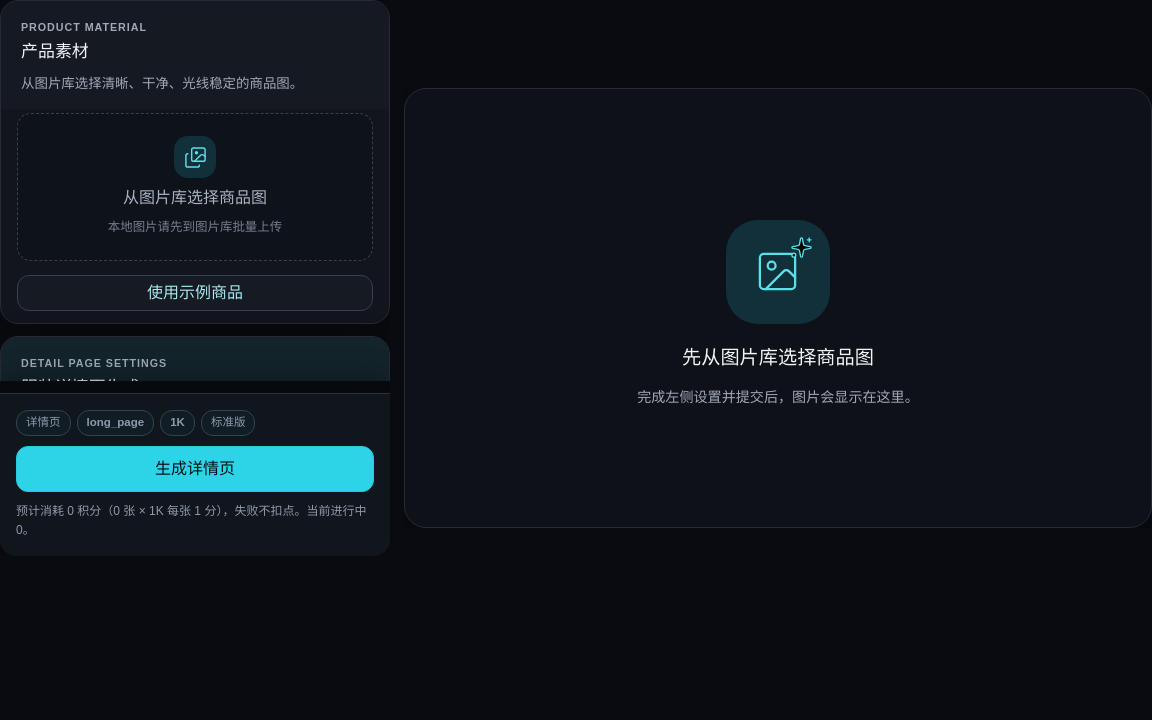
it: Workspace › lets detail modules stack multiple images and updates the estimate
Click the button "使用示例商品" at point(195, 293), box [17,275,373,311]
(page scrolled)
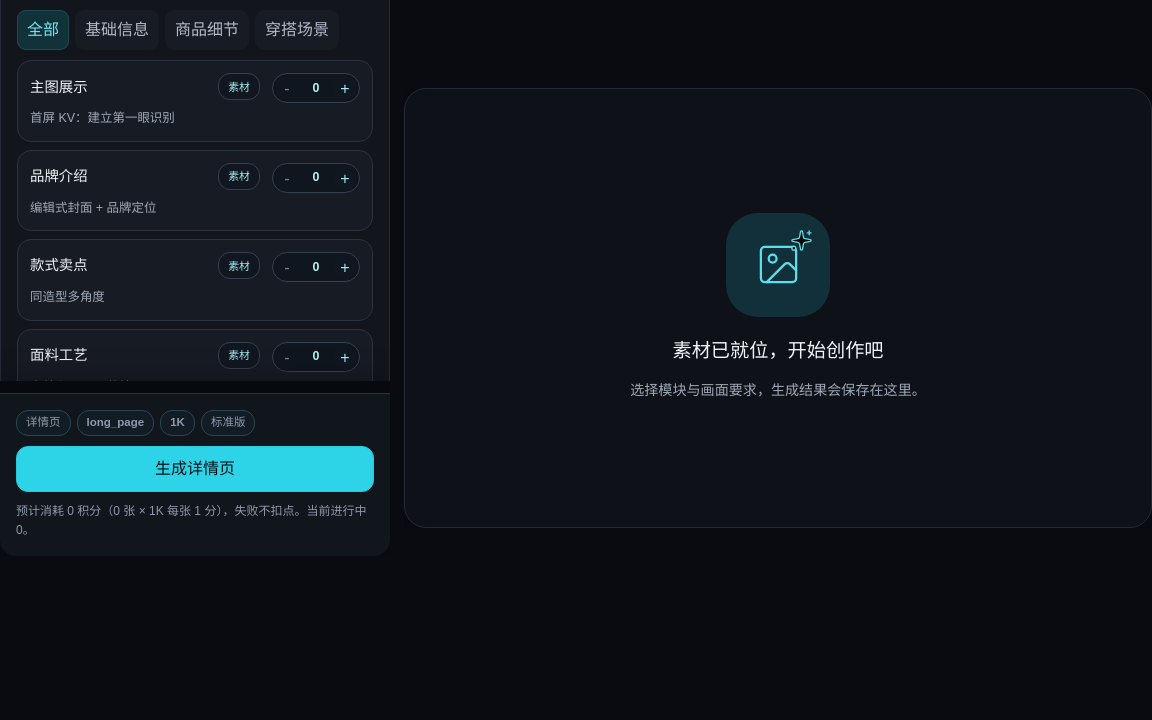
Click the button with aria-label "品牌介绍 编辑式封面 + 品牌定位" at point(59, 176), box [17,150,373,231]
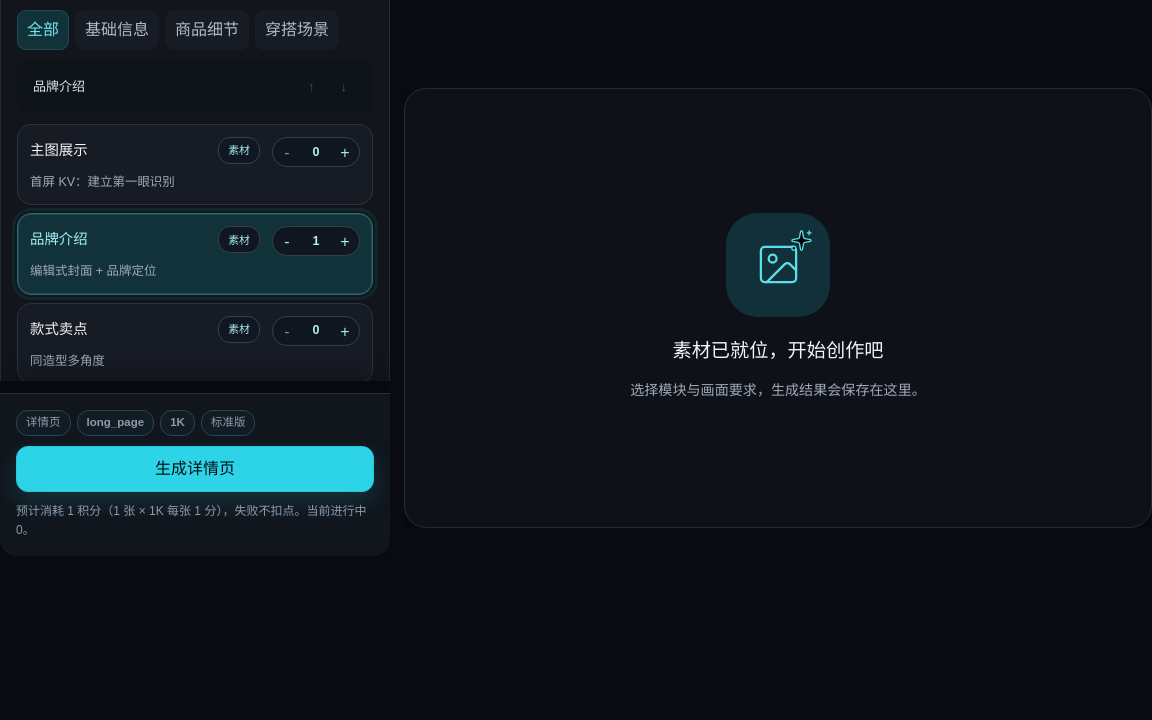
Click the button named "品牌介绍 增加 1 张" at point(345, 241), box [333,229,357,253]
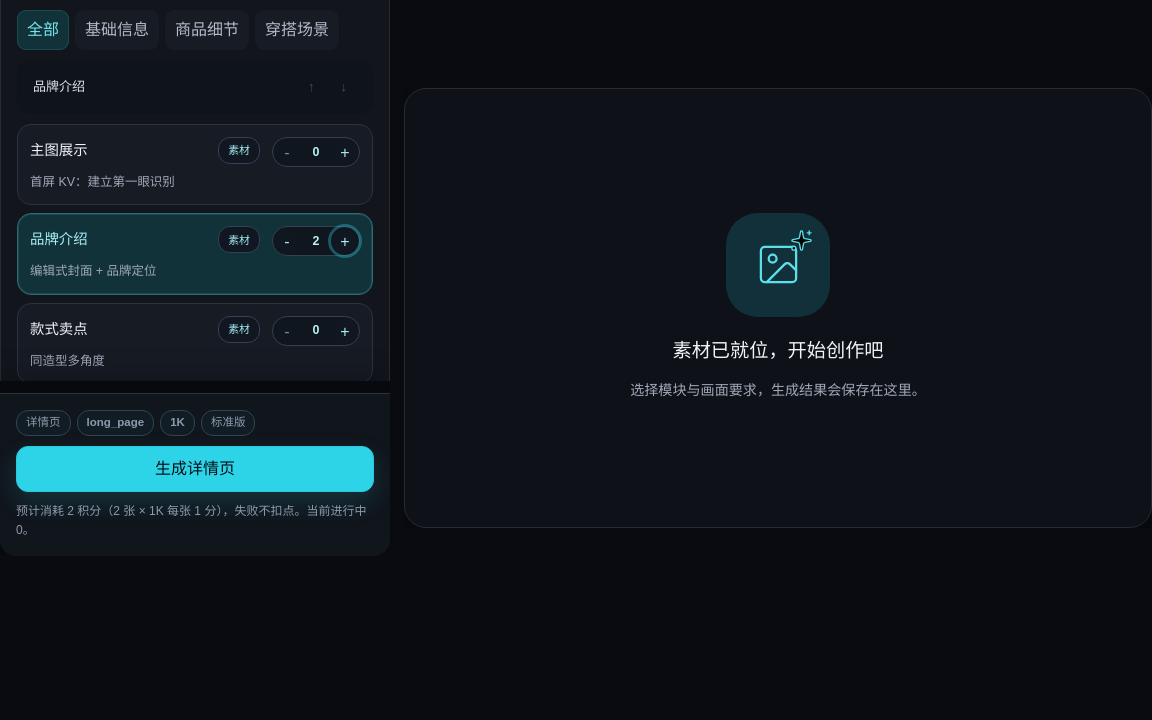
Now the text "预计消耗 2 积分（2 张 × 1K 每张 1 分），失败不扣点。当前进行中 0。" is shown, box [16,502,374,540]
Click the button named "品牌介绍 减少 1 张" at point(287, 241), box [275,229,299,253]
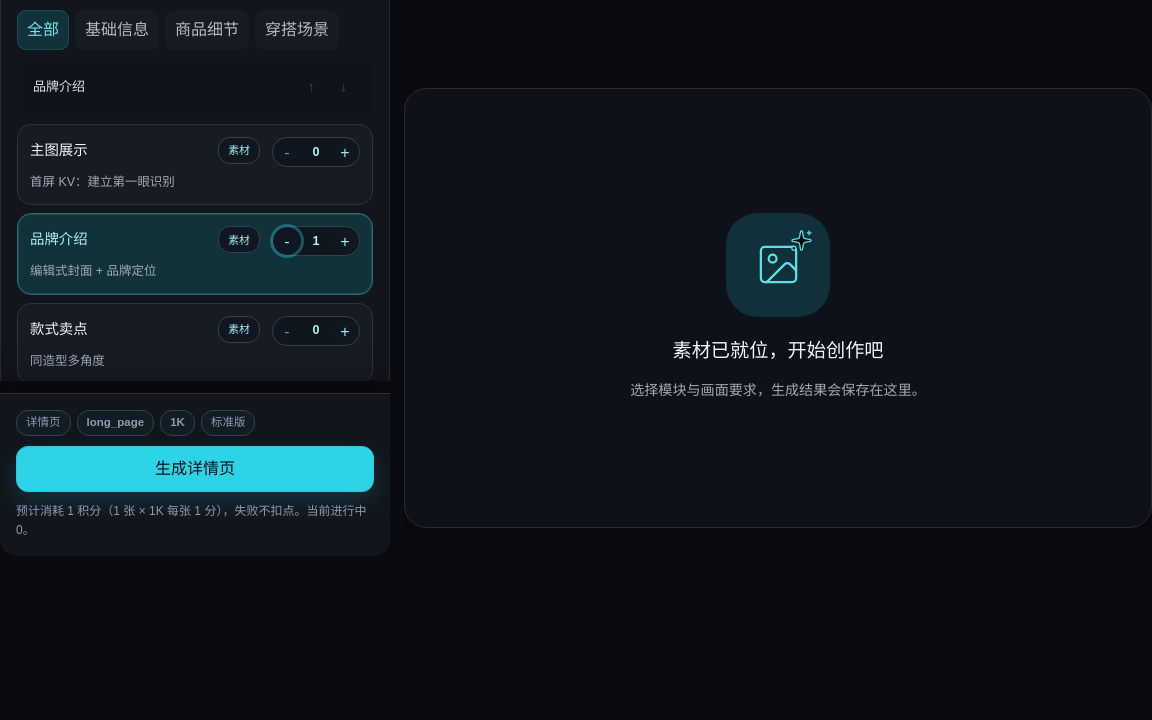
Now the text "预计消耗 1 积分（1 张 × 1K 每张 1 分），失败不扣点。当前进行中 0。" is shown, box [16,502,374,540]
